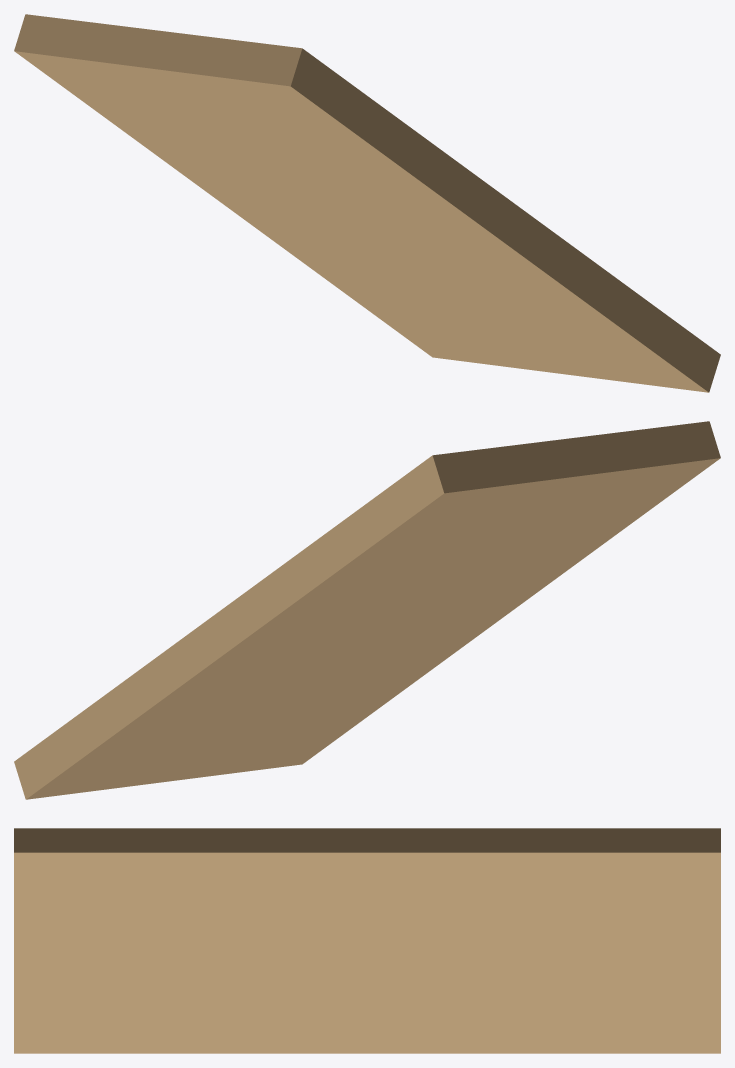
3 renders of one model, top to bottom at view 1: azimuth 30°, elevation 25°; view 2: azimuth 150°, elevation 25°; view 3: azimuth 270°, elevation 25°, orthographic. The views are drawn at different scales.
Visible parts, largest first — view 1: 0_2_1_3_0_0_0_0_0_0_1; view 2: 0_2_1_3_0_0_0_0_0_0_1; view 3: 0_2_1_3_0_0_0_0_0_0_1.
Boxes of the visible parts, x1,y1,x2,y2 form: 0_2_1_3_0_0_0_0_0_0_1: [14, 14, 720, 392]; 0_2_1_3_0_0_0_0_0_0_1: [14, 421, 720, 799]; 0_2_1_3_0_0_0_0_0_0_1: [14, 828, 720, 1053].
Bounding box in the file's own units: 9.55 × 4.33 × 24.
